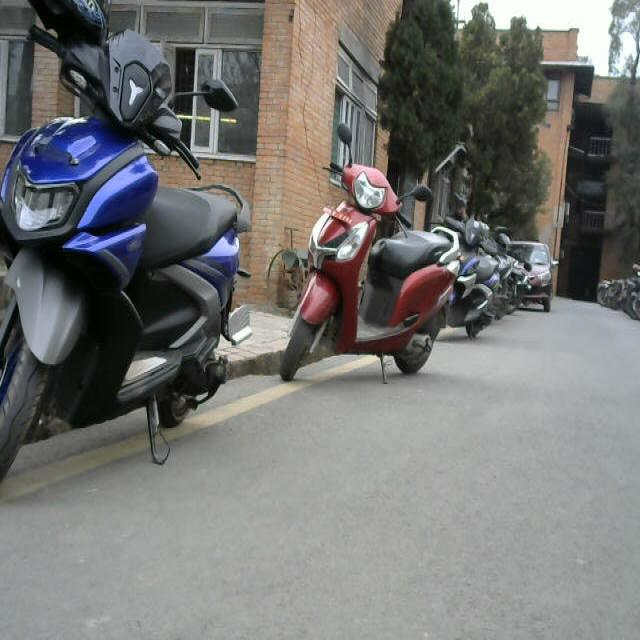Bike: (0, 0, 240, 479), (291, 130, 460, 432), (461, 210, 536, 372)
Car: (516, 241, 574, 317)
Road: (57, 342, 640, 640)
trees: (390, 0, 590, 219)
